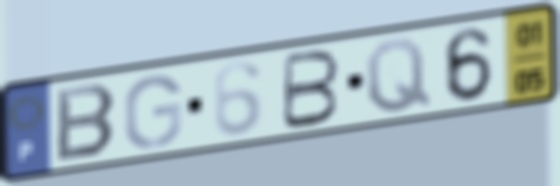6: (441, 24, 498, 106), (210, 58, 266, 140)
B: (53, 81, 121, 166), (278, 47, 343, 134)
G: (121, 72, 185, 152)
Q: (362, 35, 435, 117)
